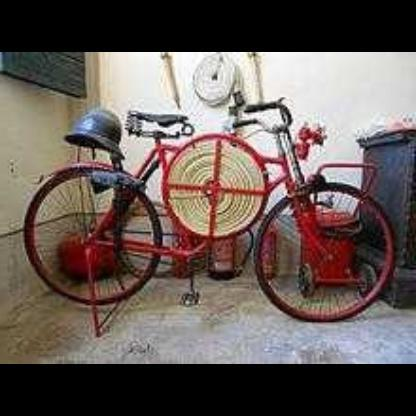Bicycle: (8, 87, 415, 339)
